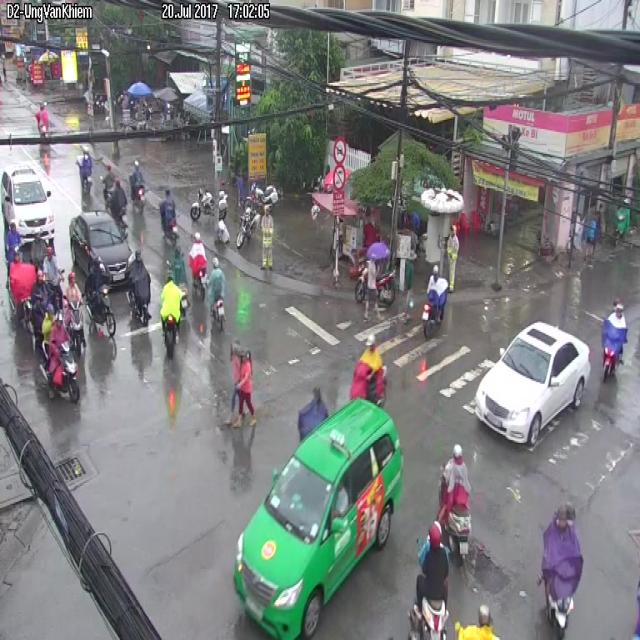car: (539, 504, 583, 639), (408, 521, 448, 639), (437, 446, 471, 557), (42, 308, 78, 400), (84, 259, 116, 336), (351, 335, 385, 404), (62, 273, 86, 360), (602, 301, 627, 379), (422, 267, 448, 338), (161, 274, 182, 359), (127, 250, 151, 324), (208, 259, 226, 330), (188, 236, 207, 293), (110, 179, 126, 230), (161, 190, 176, 240)
traffic-light: (234, 400, 403, 639), (474, 323, 589, 449), (70, 212, 131, 289), (0, 163, 54, 240)
